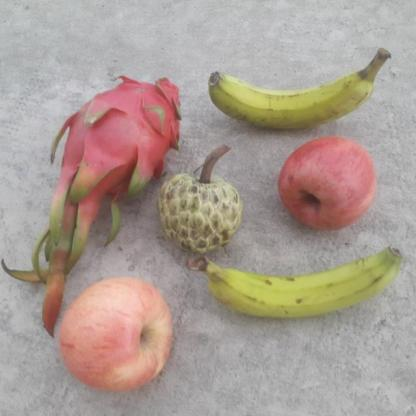annona: (157, 167, 241, 253)
apple: (58, 277, 175, 393), (278, 136, 378, 234)
banana: (190, 246, 400, 323), (207, 46, 388, 130)
pitaya: (50, 73, 184, 210)
